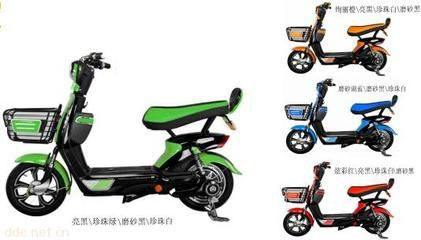non-vehicle: (2, 51, 244, 227), (282, 77, 401, 159), (275, 164, 400, 237), (282, 3, 393, 77)
